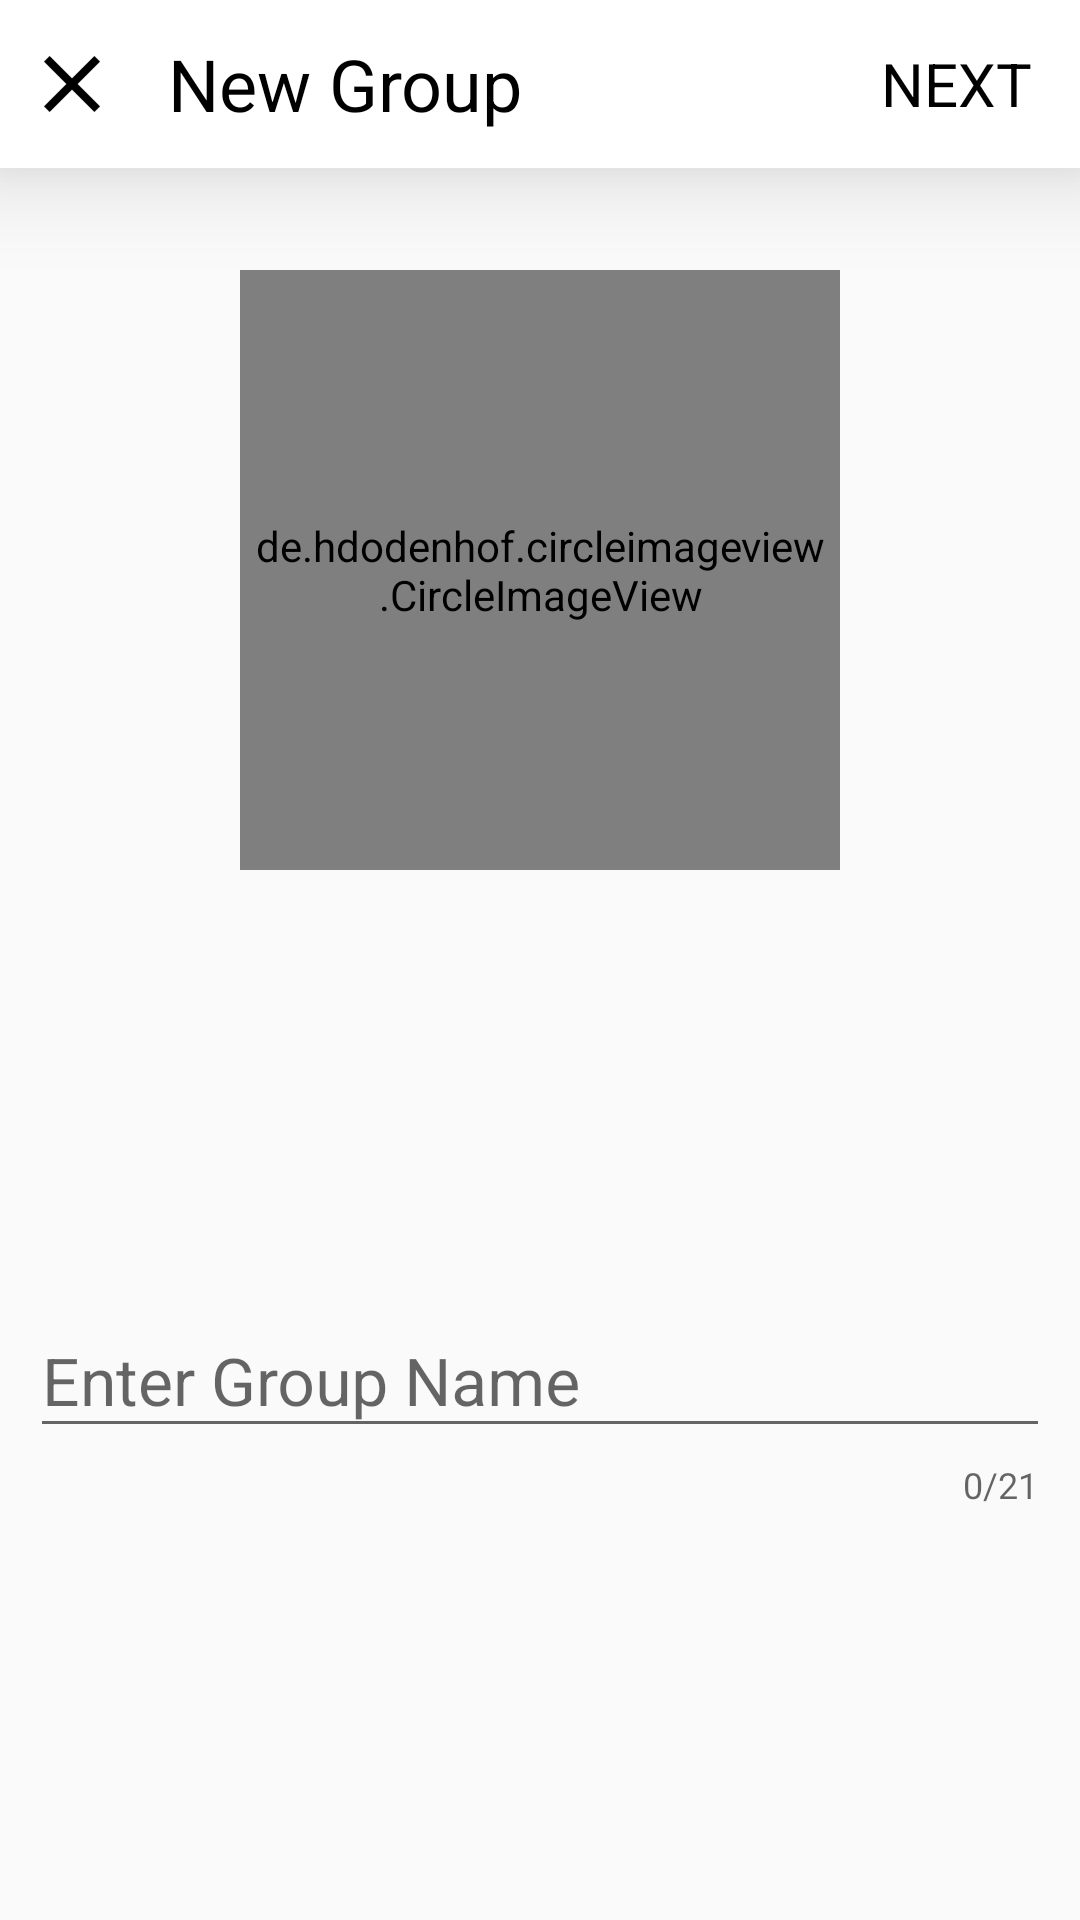

Where to tap for icons on this 1080×1920 app screen, as (x=x, y=y):
close: (x=72, y=84)
